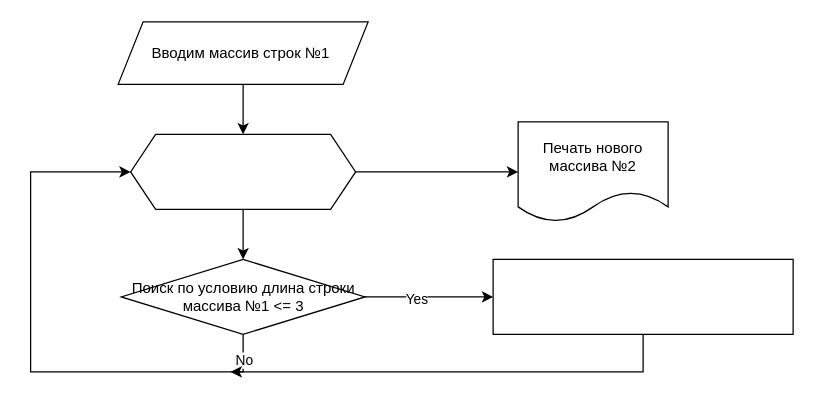
Image size: 815x404. Some labels were removed from this diagram. The shapes that lost their labels are listed below. From the top down, each one's centre as x and y in pixels, then its label:
(242,171): цикл по каждой строке массива №1
(642,296): добавляем строку, удовлетрворяющюю предыдущему условию, в новый массив №2
